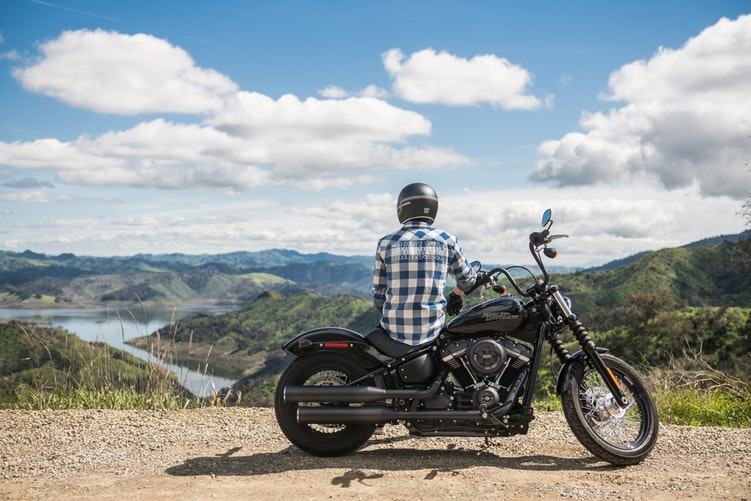helmet: (385, 184, 437, 217)
